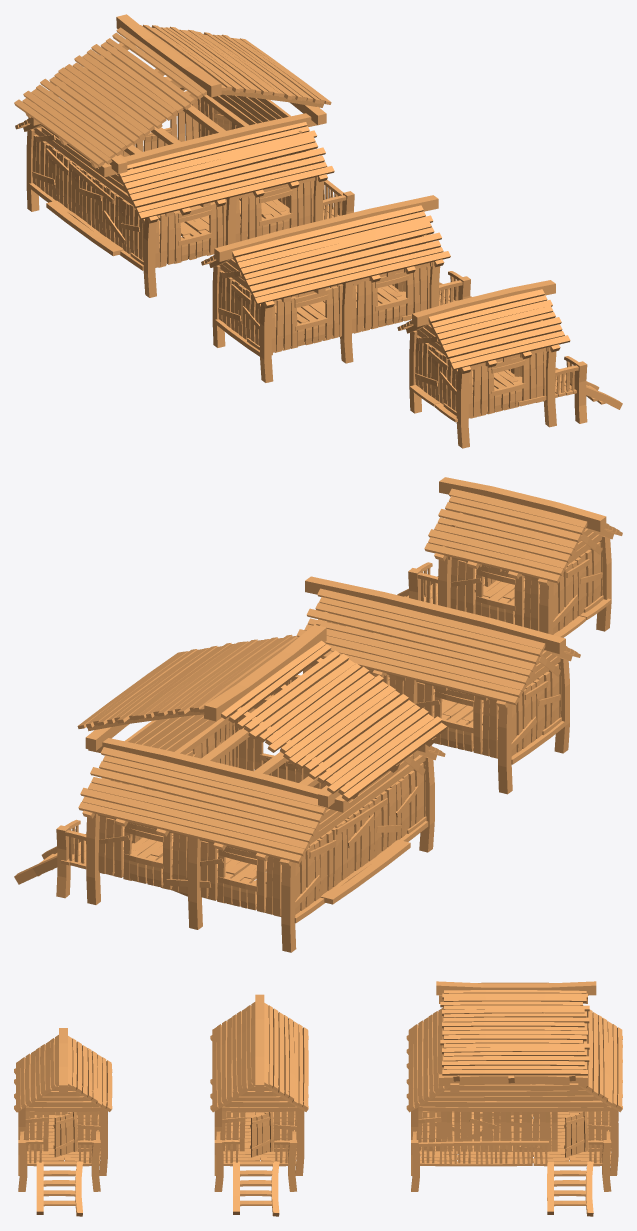
Rendered from houses.fbx.
3 renders of one model, top to bottom at view 1: azimuth 30°, elevation 25°; view 2: azimuth 150°, elevation 25°; view 3: azimuth 270°, elevation 25°, orthographic. The views are drawn at different scales.
Visible parts, largest first — view 1: Cube.002, Cube.001, Cube.748; view 2: Cube.002, Cube.001, Cube.748; view 3: Cube.002, Cube.001, Cube.748.
Part boxes in pixels (x1,y1,x2,y2): Cube.002: (14, 14, 354, 297); Cube.001: (201, 195, 471, 382); Cube.748: (397, 280, 622, 448); Cube.002: (14, 624, 447, 952); Cube.001: (270, 576, 580, 794); Cube.748: (397, 477, 622, 637); Cube.002: (406, 981, 622, 1216); Cube.001: (210, 994, 308, 1216); Cube.748: (14, 1028, 112, 1216).
Size of the model in its own units: 706 by 462 by 1551.
